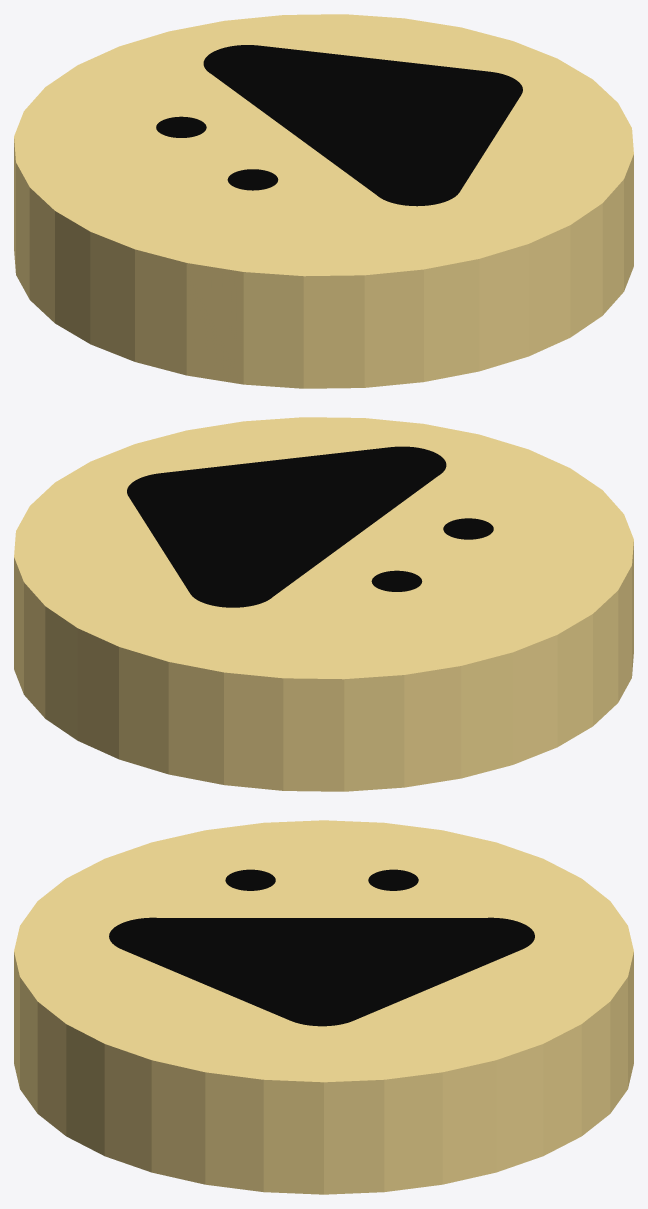
Rendered from arrow-btn.glb.
The picture shows the model from 3 angles, top to bottom: view 1: azimuth 30°, elevation 25°; view 2: azimuth 150°, elevation 25°; view 3: azimuth 270°, elevation 25°; orthographic projection.
Parts seen in each view (by area): view 1: Cylinder, Curve.005, Curve.006, Curve.007, Curve.001, Curve.003; view 2: Cylinder, Curve.005, Curve.006, Curve.007, Curve.001, Curve.003; view 3: Cylinder, Curve.006, Curve.005, Curve.007, Curve.001, Curve.003.
Part boxes in pixels (x1,y1,x2,y2): Cylinder: (14,14,633,388); Curve.005: (211,73,438,195); Curve.006: (373,71,522,206); Curve.007: (203,45,522,108); Curve.001: (227,169,278,190); Curve.003: (156,116,206,137); Cylinder: (14,417,633,791); Curve.005: (215,475,437,598); Curve.006: (127,446,446,509); Curve.007: (127,473,275,607); Curve.001: (443,518,493,539); Curve.003: (371,570,422,591); Cylinder: (14,820,633,1194); Curve.006: (109,917,365,1026); Curve.005: (158,918,490,985); Curve.007: (279,917,534,1026); Curve.001: (225,869,275,890); Curve.003: (368,869,418,890).
Bounding box in the file's own units: 0.0802 × 0.0187 × 0.0802.
